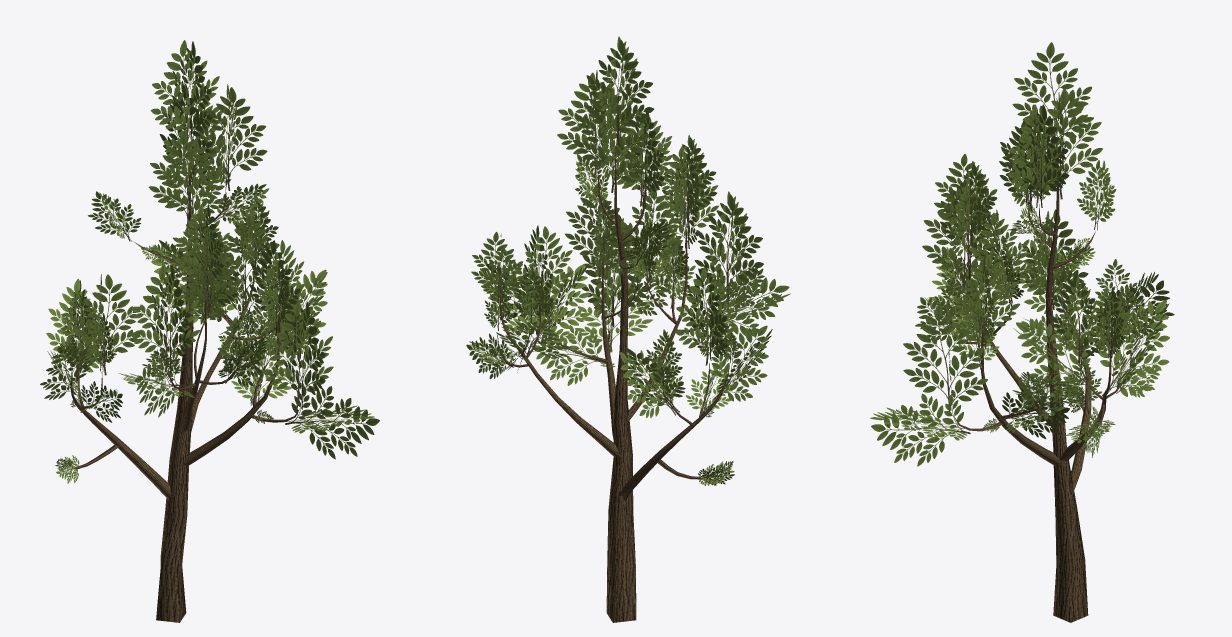
The model's file is Tree8.gltf.
The picture shows the model from 3 angles, left to right: view 1: azimuth 30°, elevation 25°; view 2: azimuth 150°, elevation 25°; view 3: azimuth 270°, elevation 25°; orthographic projection.
Visible parts, largest first — view 1: leaves.008, trunk.008; view 2: leaves.008, trunk.008; view 3: leaves.008, trunk.008.
Part boxes in pixels (left/top/right/bottom): leaves.008: left=40, top=40, right=379, bottom=483; trunk.008: left=69, top=171, right=299, bottom=622; leaves.008: left=466, top=36, right=790, bottom=485; trunk.008: left=497, top=146, right=729, bottom=622; leaves.008: left=870, top=42, right=1174, bottom=466; trunk.008: left=950, top=163, right=1131, bottom=622.
Bounding box in the file's own units: 33.6 × 52.6 × 30.71.
2 materials, 2 textured.
